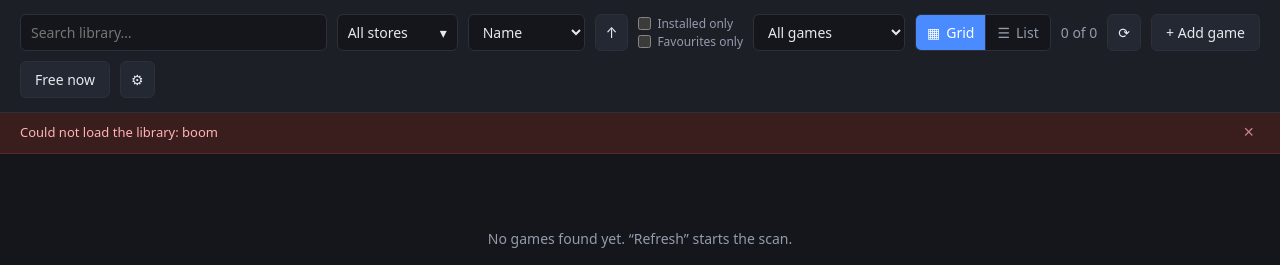
App › a load error is displayed and can be dismissed
Check: the message "Could not load the library: boom ×" is shown, box [0,113,1279,154]
Check: the text "Could not load the library: boom" is shown, box [20,123,218,142]
Click the button named "Dismiss message": (1249, 132) [1238,123,1260,141]
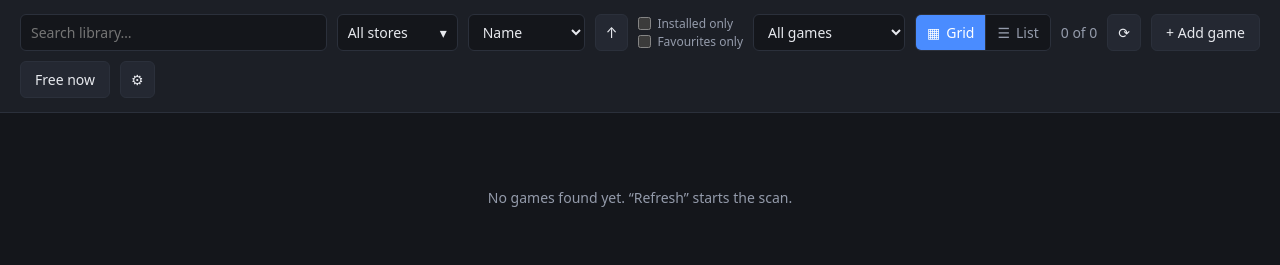
Check: the message "Could not load the library: boom ×" is gone
